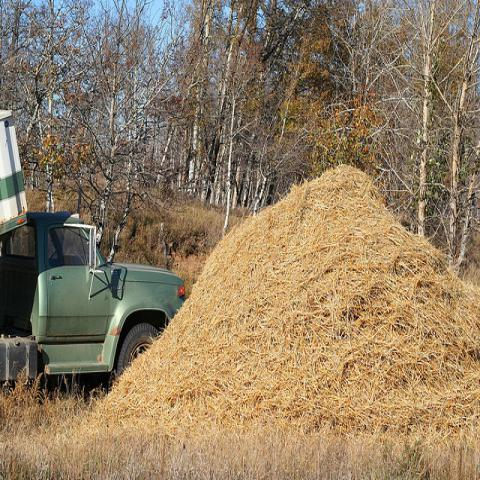truck: (0, 105, 186, 392)
